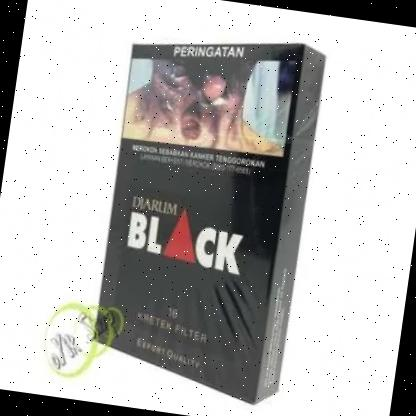bungkus rokok: (76, 13, 338, 407)
